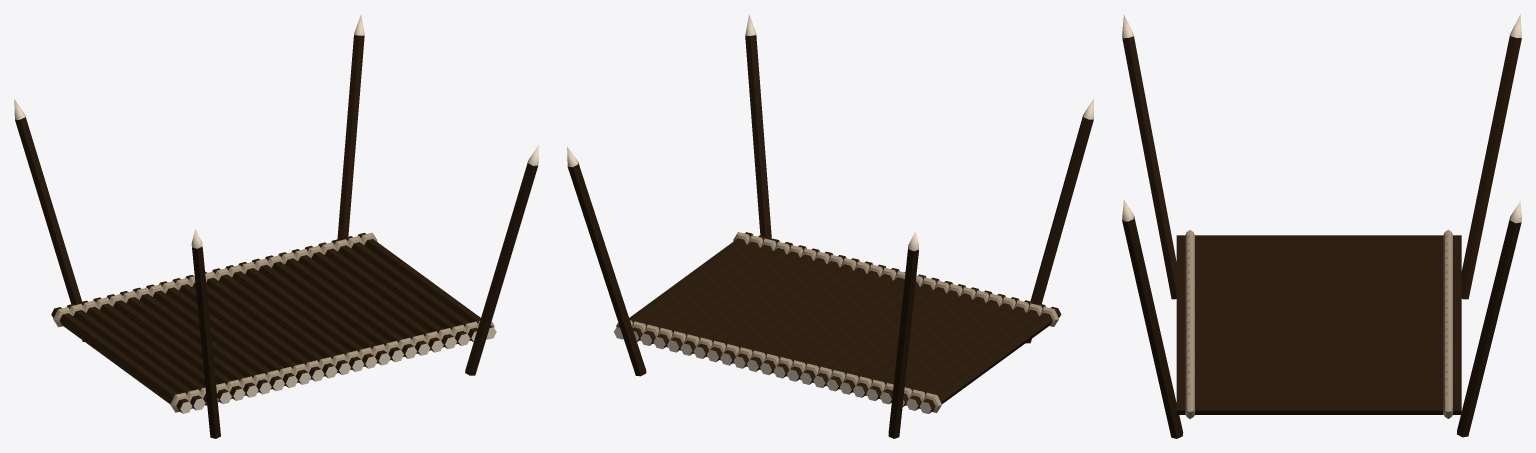
The model's file is bridge.fbx.
The picture shows the model from 3 angles, left to right: view 1: azimuth 30°, elevation 25°; view 2: azimuth 150°, elevation 25°; view 3: azimuth 270°, elevation 25°; orthographic projection. The views are drawn at different scales.
Visible parts, largest first — view 1: pPipe15, pCylinder23, pCylinder22; view 2: pPipe15, pCylinder23, pCylinder22; view 3: pPipe15, pCylinder22, pCylinder23.
Boxes of the visible parts, left/top/right/bottom form: pPipe15: left=51, top=232, right=496, bottom=413; pCylinder23: left=337, top=15, right=538, bottom=375; pCylinder22: left=14, top=99, right=220, bottom=438; pPipe15: left=614, top=232, right=1061, bottom=413; pCylinder23: left=567, top=14, right=771, bottom=376; pCylinder22: left=888, top=98, right=1093, bottom=438; pPipe15: left=1176, top=230, right=1461, bottom=418; pCylinder22: left=1122, top=14, right=1521, bottom=299; pCylinder23: left=1122, top=199, right=1521, bottom=438.
Size of the model in its own units: 12.63 by 8.15 by 11.31.
